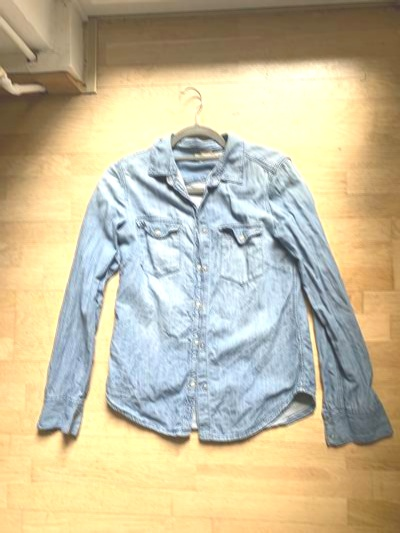Blazer: (16, 90, 392, 471)
